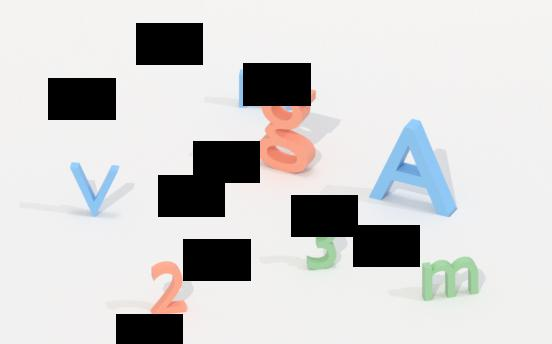2: (146, 258, 190, 322)
3: (303, 215, 342, 273)
A-hoa: (370, 116, 461, 220)
g: (255, 81, 319, 178)
m: (420, 255, 482, 304), (237, 67, 296, 112)
v: (69, 158, 121, 220)
